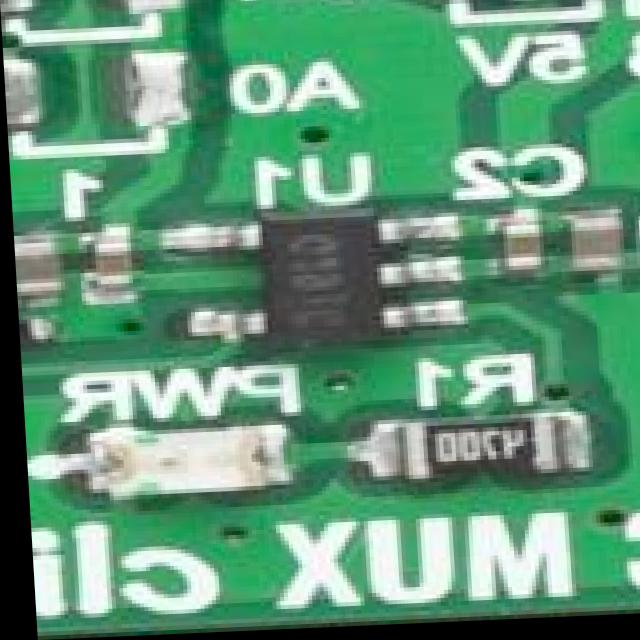IC: (210, 205, 453, 361)
LED: (74, 431, 292, 516)
capacitor: (563, 210, 635, 293), (479, 218, 542, 282), (83, 236, 126, 303), (11, 239, 50, 308)
resistor: (375, 424, 587, 488), (420, 0, 633, 13), (15, 327, 45, 360)
